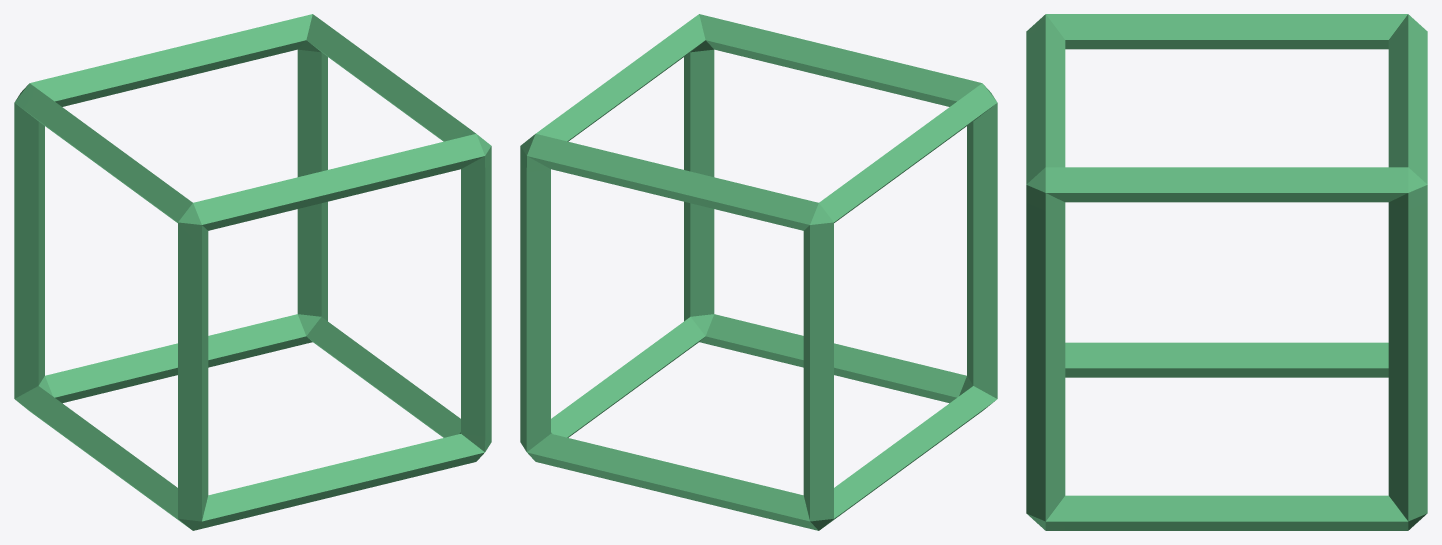
The picture shows the model from 3 angles, left to right: view 1: azimuth 30°, elevation 25°; view 2: azimuth 150°, elevation 25°; view 3: azimuth 270°, elevation 25°; orthographic projection. The views are drawn at different scales.
Visible parts, largest first — view 1: CUBE_FINAL; view 2: CUBE_FINAL; view 3: CUBE_FINAL.
Boxes of the visible parts, x1,y1,x2,y2 form: CUBE_FINAL: [14, 14, 491, 530]; CUBE_FINAL: [520, 14, 997, 530]; CUBE_FINAL: [1026, 14, 1427, 530].
Bounding box in the file's own units: 0.02 × 0.02 × 0.02.
